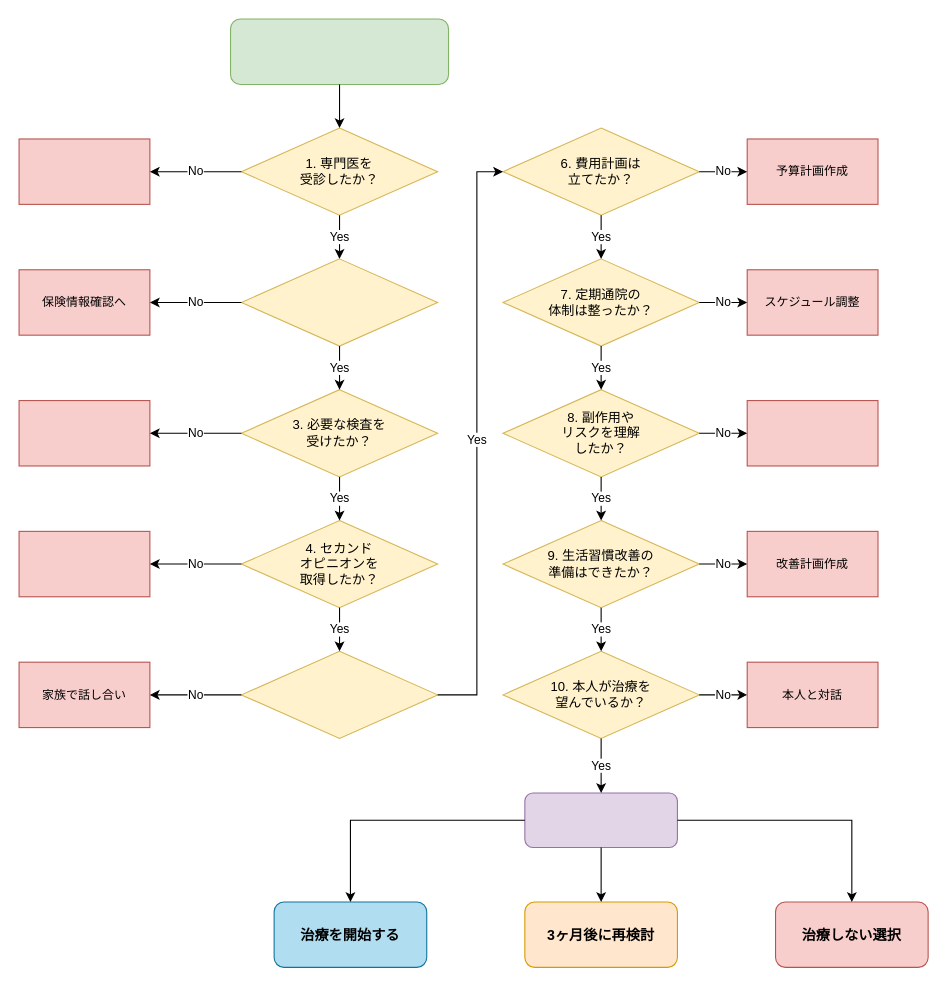
The diagram is 947 pixels wide and 986 high, and some of its shapes have lost their labels. The shapes that lost their labels are listed below. From the top down, each one's centre as x and y in pixels, then its label:
point 339,51: 成長ホルモン治療を 検討中
point 84,171: 専門医受診へ
point 339,302: 2. 保険適用の 確認は済んだか？
point 84,432: 検査予約へ
point 812,432: 医師に詳細確認
point 84,563: 他院受診検討
point 339,694: 5. 家族全員の 理解と同意を 得たか？
point 600,819: 最終決定
